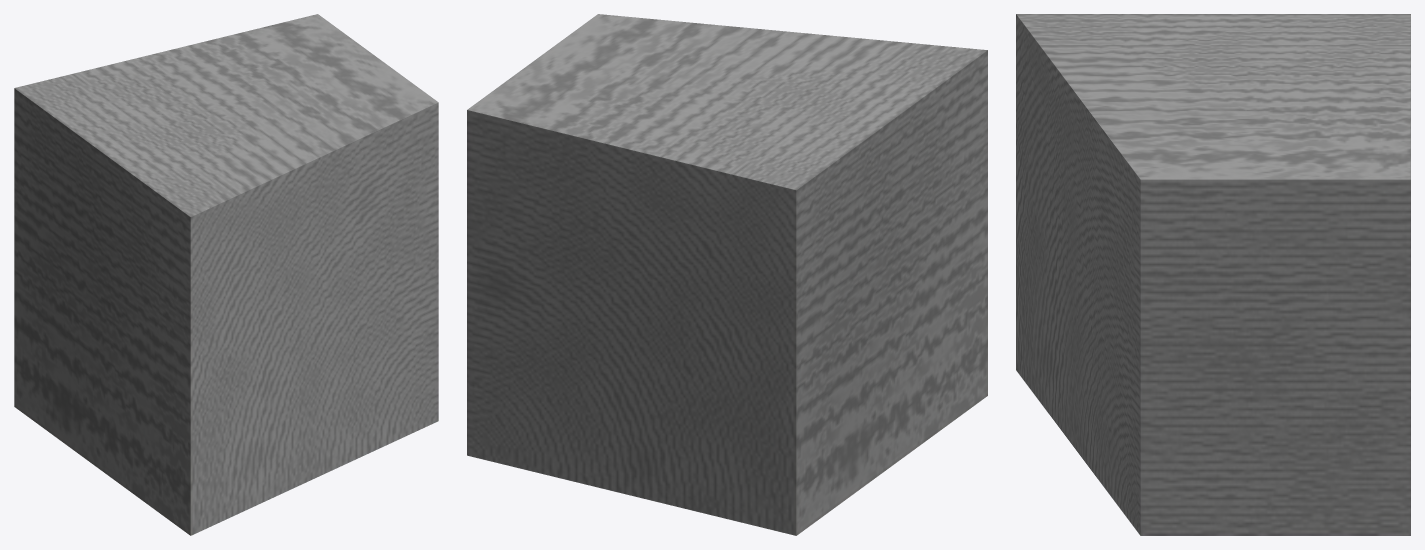
The picture shows the model from 3 angles, left to right: view 1: azimuth 30°, elevation 25°; view 2: azimuth 150°, elevation 25°; view 3: azimuth 270°, elevation 25°; orthographic projection. The views are drawn at different scales.
Visible parts, largest first — view 1: 6; view 2: 6; view 3: 6.
Part boxes in pixels (left/top/right/bottom): 6: left=14, top=14, right=438, bottom=535; 6: left=467, top=14, right=987, bottom=535; 6: left=1016, top=14, right=1410, bottom=535.
Bounding box in the file's own units: 1.99 × 2 × 2.01.
Materials: 1 (1 with a texture image).
